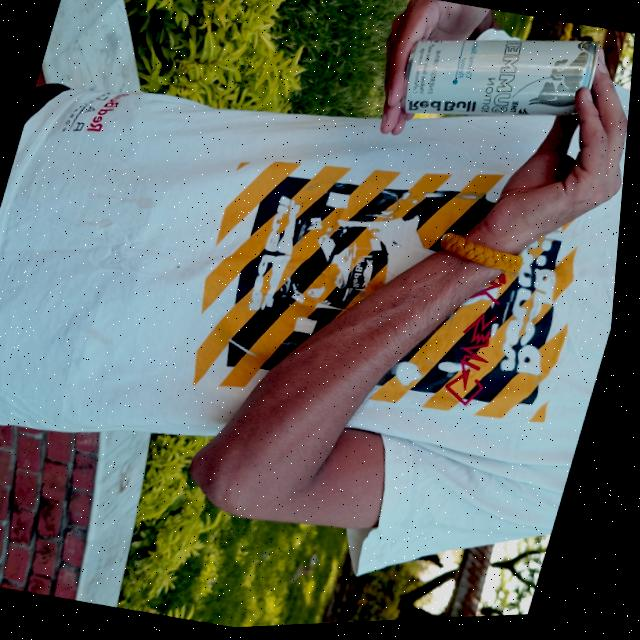Redbull Summer Edition: (401, 8, 606, 150)
